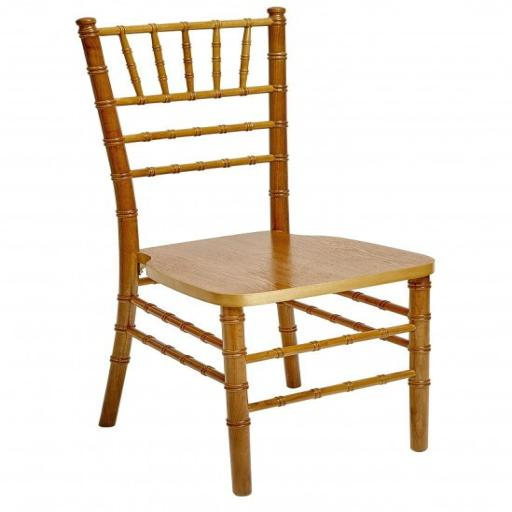chair: (48, 8, 458, 502)
